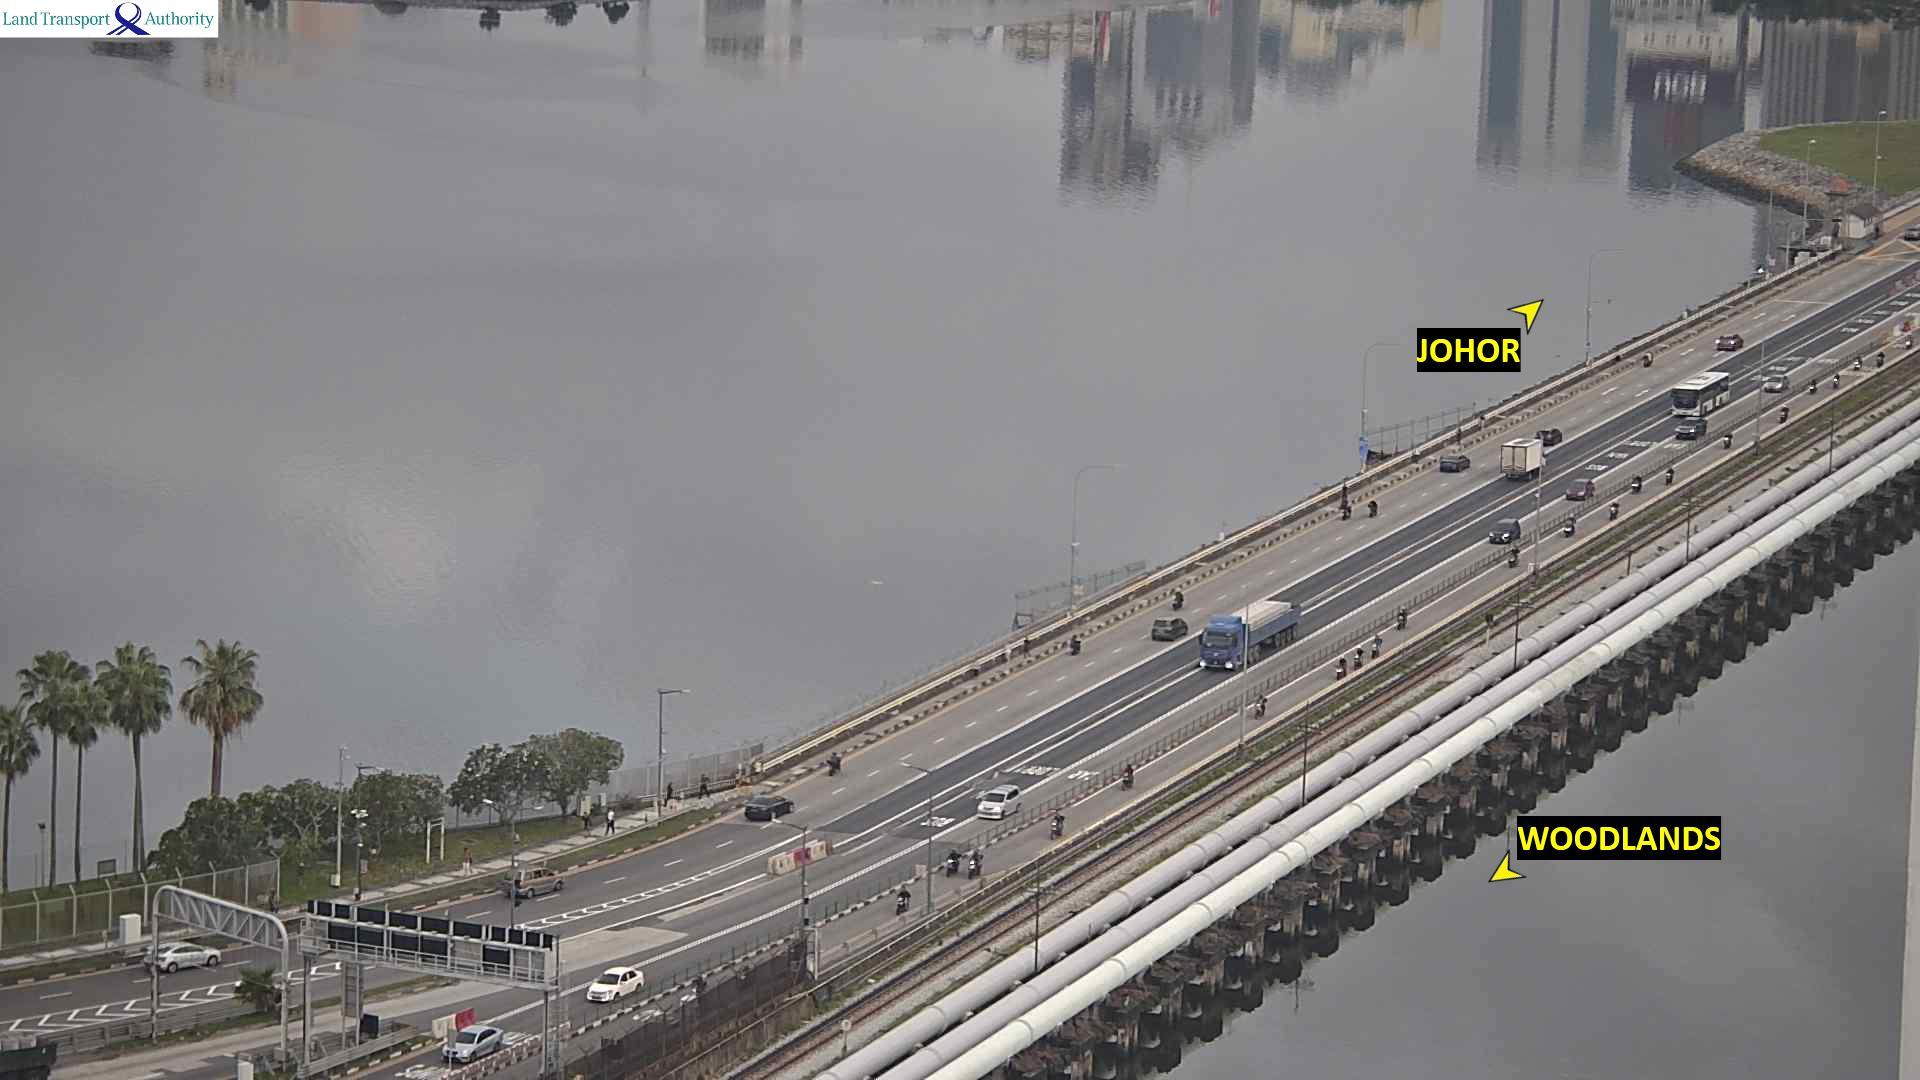vehicle-causeway-johor: (145, 943, 220, 971), (1501, 438, 1544, 480), (502, 866, 564, 894), (745, 793, 795, 819), (1153, 616, 1188, 641), (1536, 427, 1563, 444), (1717, 334, 1743, 351), (1441, 455, 1469, 469), (827, 752, 841, 775), (1905, 223, 1920, 240), (1071, 634, 1081, 655), (1175, 588, 1183, 609), (1643, 349, 1654, 365), (1342, 502, 1350, 520), (1367, 502, 1375, 517)
vehicle-causeway-singapore: (1197, 601, 1298, 671), (1673, 371, 1730, 417), (440, 1025, 502, 1063), (587, 965, 645, 1004), (976, 782, 1025, 820), (1489, 518, 1522, 545), (1675, 417, 1709, 439), (1567, 479, 1594, 501), (895, 886, 913, 916), (944, 848, 961, 877), (968, 849, 984, 878), (1050, 811, 1065, 839), (1764, 375, 1787, 393), (1120, 764, 1135, 787), (1254, 694, 1269, 717), (1370, 633, 1383, 658), (1563, 514, 1577, 537), (1507, 546, 1520, 568), (1337, 655, 1349, 679), (1776, 404, 1789, 425), (1607, 500, 1622, 518), (1395, 608, 1408, 628), (1354, 647, 1364, 670), (1722, 433, 1734, 450), (1876, 351, 1886, 371), (1633, 475, 1642, 492), (1808, 378, 1820, 392), (1665, 467, 1673, 487), (1904, 332, 1913, 348), (1854, 355, 1863, 369), (1832, 373, 1840, 388)
